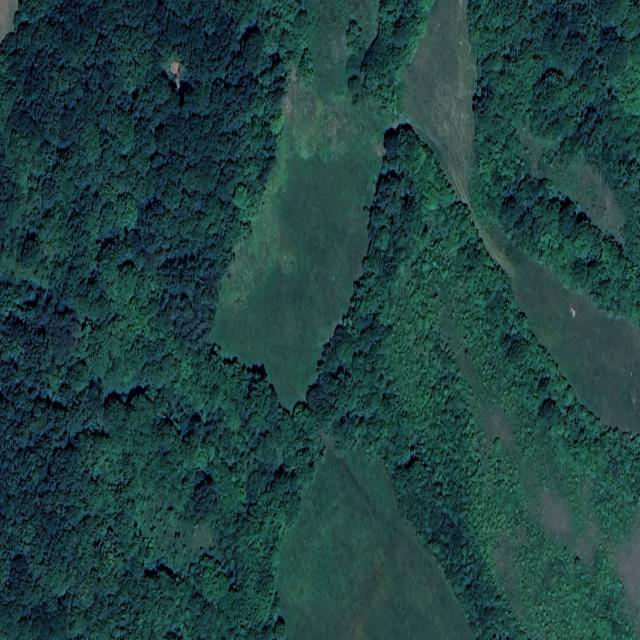grass: (405, 0, 640, 432), (211, 0, 385, 364), (404, 0, 476, 201)
tree: (0, 0, 322, 639), (307, 125, 640, 639), (467, 0, 640, 326), (369, 0, 400, 97)
